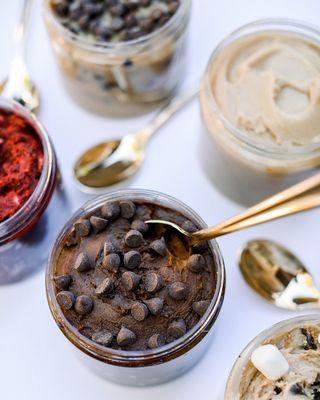pizza: (198, 21, 320, 180)
salad: (76, 6, 256, 188), (75, 32, 213, 188), (139, 168, 320, 251), (239, 239, 320, 311), (0, 1, 40, 114)
sushi: (47, 187, 227, 372), (0, 97, 57, 249), (224, 316, 320, 400)
